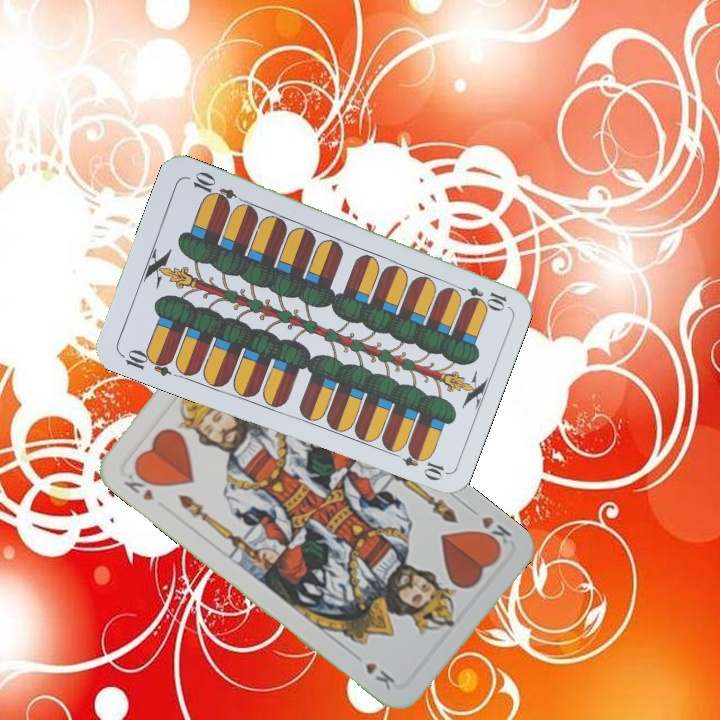E10: (116, 345, 175, 379), (451, 281, 510, 311)
HK: (464, 502, 515, 553), (119, 465, 159, 504)
